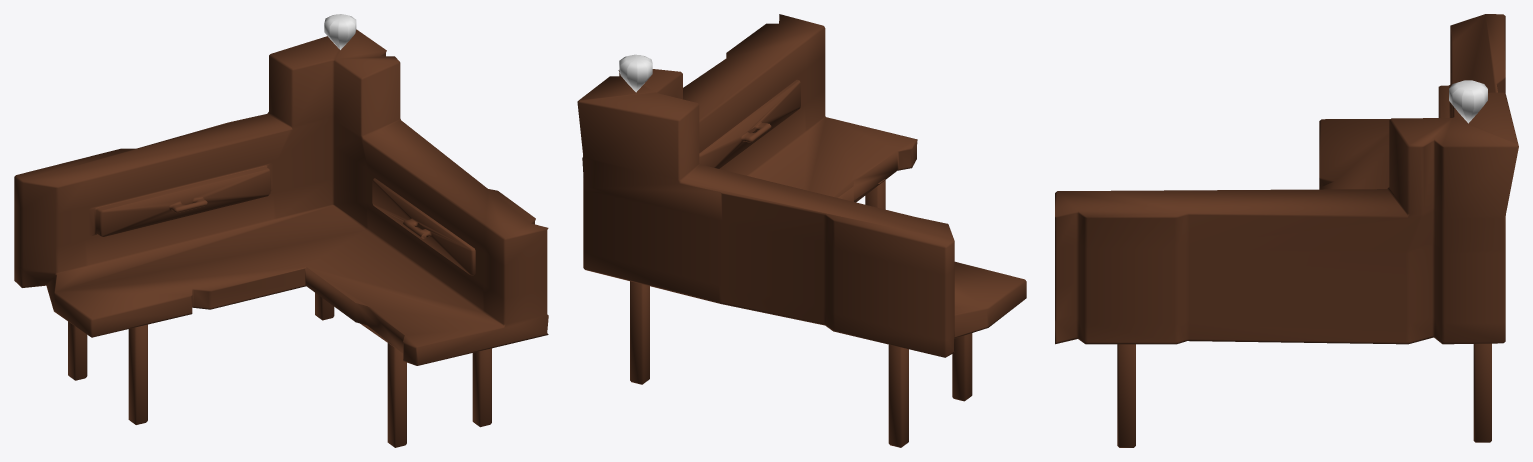
File: Biurko.fbx
3 renders of one model, left to right at view 1: azimuth 30°, elevation 25°; view 2: azimuth 150°, elevation 25°; view 3: azimuth 270°, elevation 25°, orthographic. The views are drawn at different scales.
Parts seen in each view (by area): view 1: Biurko, Diamęcik; view 2: Biurko, Diamęcik; view 3: Biurko, Diamęcik.
Boxes of the visible parts, x1=… form: Biurko: x1=14, y1=29, x2=548, y2=447; Diamęcik: x1=324, y1=14, x2=356, y2=49; Biurko: x1=577, y1=14, x2=1026, y2=447; Diamęcik: x1=619, y1=54, x2=652, y2=92; Biurko: x1=1055, y1=14, x2=1518, y2=447; Diamęcik: x1=1449, y1=80, x2=1487, y2=123.
Bounding box in the file's own units: 431 × 357 × 416.
